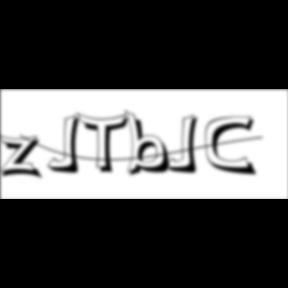C: (206, 115, 260, 178)
J: (166, 114, 205, 176), (48, 114, 86, 176)
T: (77, 112, 135, 176)
b: (124, 109, 178, 179)
z: (0, 134, 48, 182)
